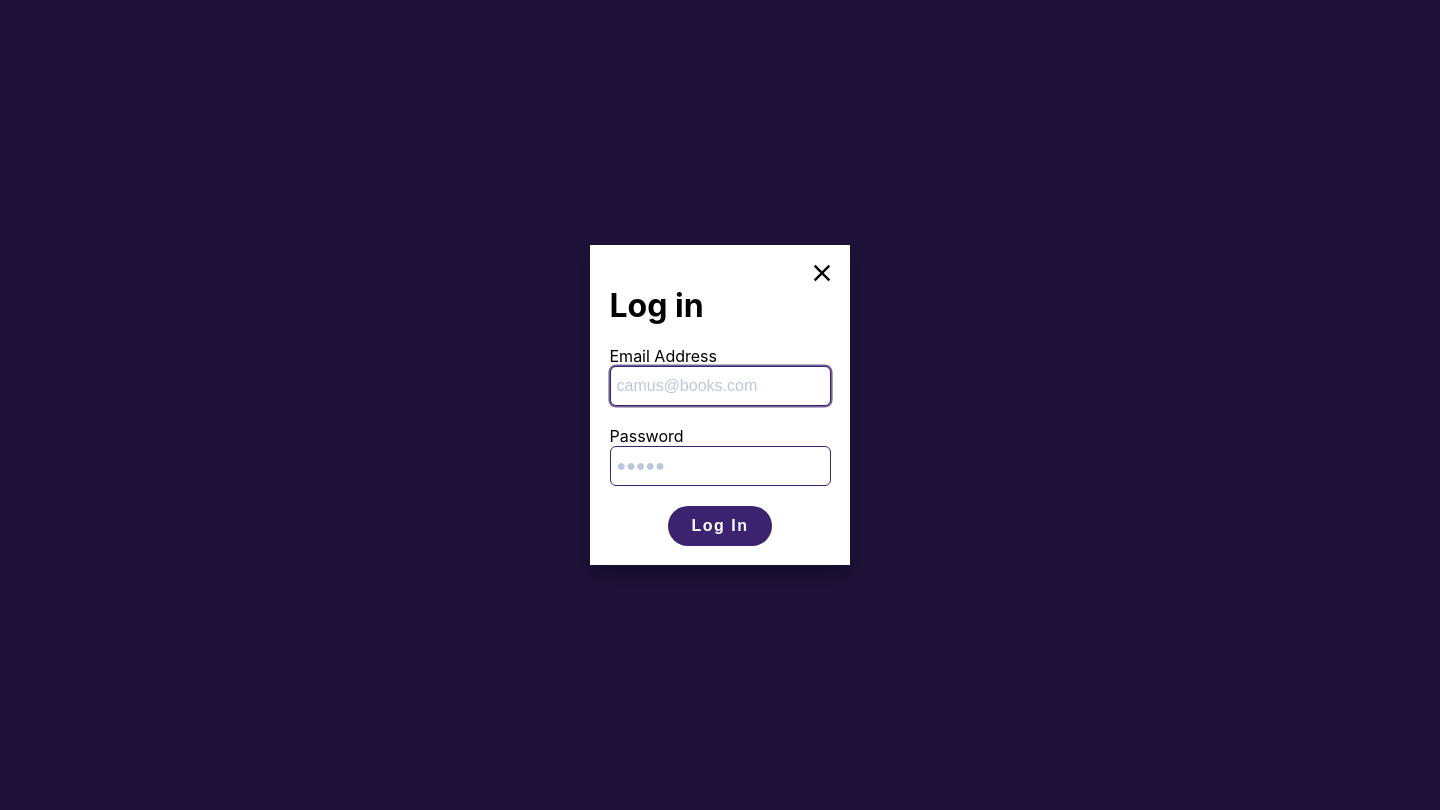
Test: <LoginModal /> › displays errors for empty form fields
The image size is (1440, 810).
What coordinates should you click on to do the following:
click the button "Log In"
I would click on:
 (720, 526)
Its box is [668,506,772,546].
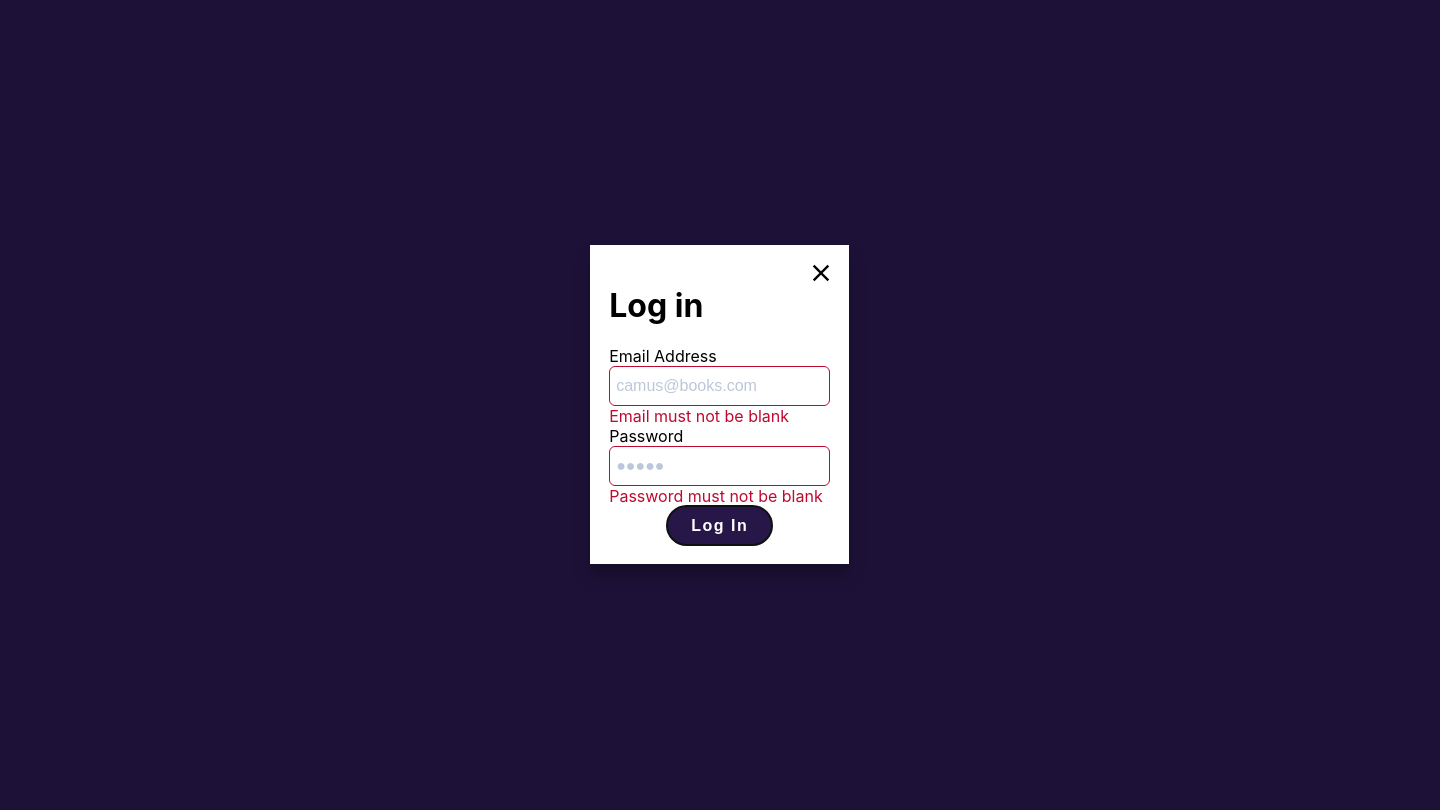
Now the text "email must not be blank" is shown, box [610,406,789,426]
Now the text "password must not be blank" is shown, box [610,486,823,506]
